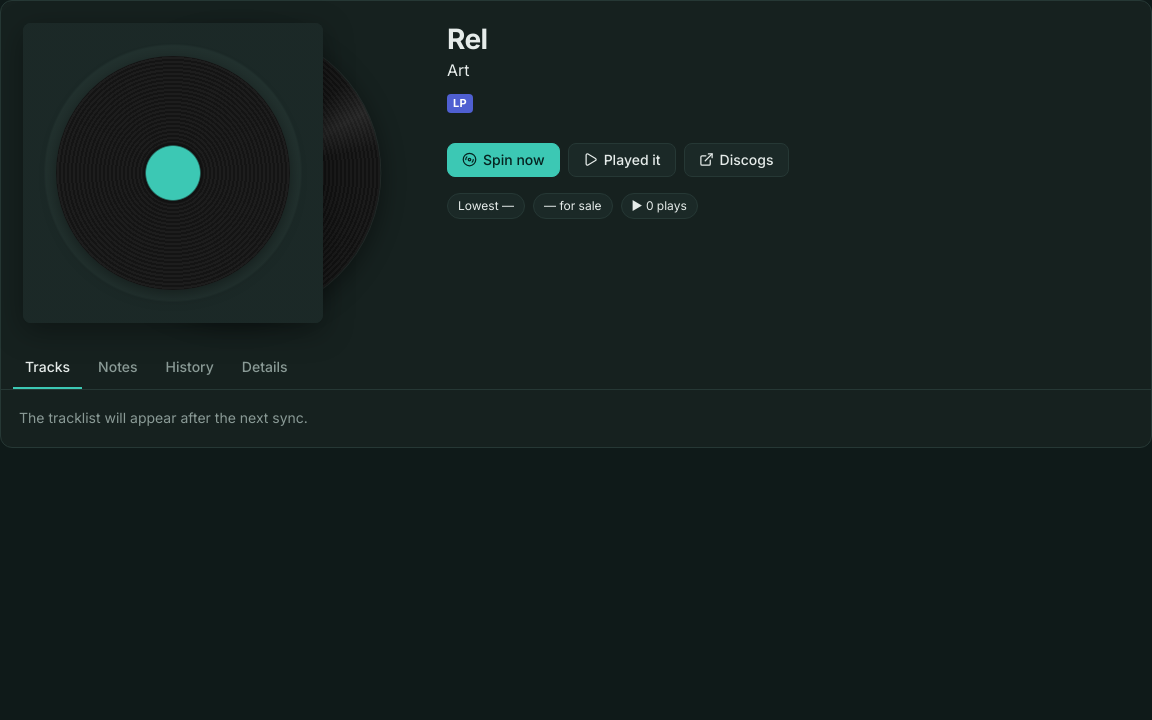
Test: when the server skipped the play as a repeat within 10 minutes, the toast says so
Click the button "Spin now" at coordinates (503, 160), box [447, 143, 560, 177]
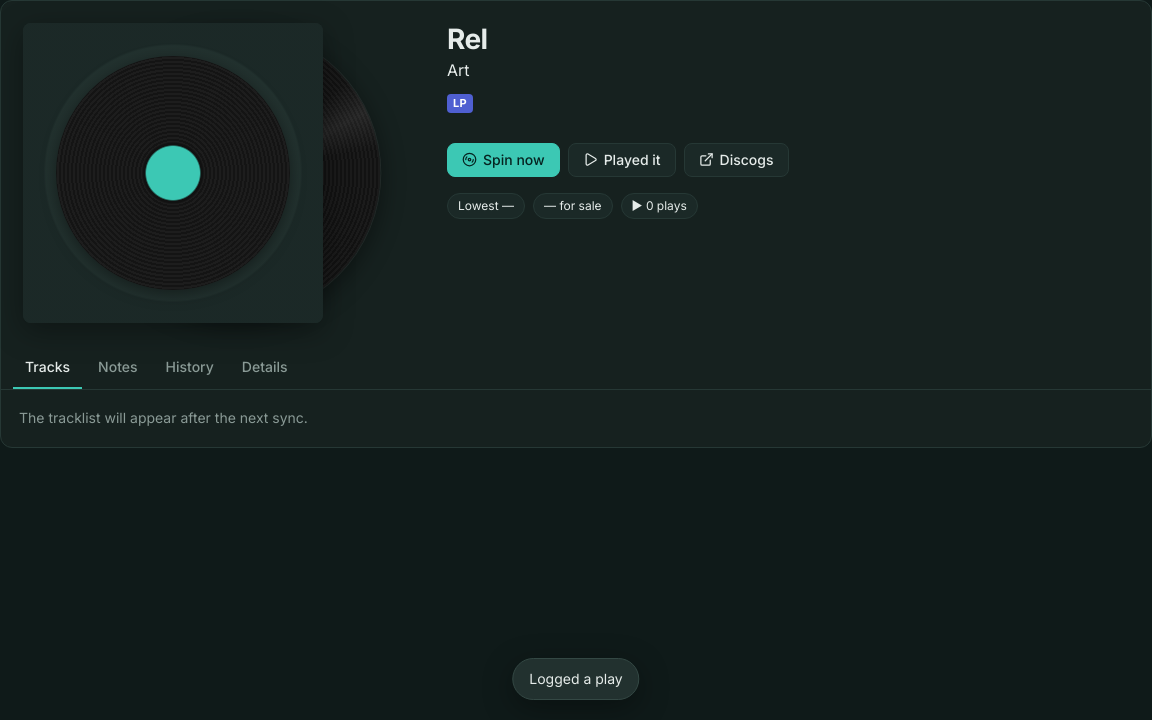
Click the button "Spin now" at coordinates (503, 160), box [447, 143, 560, 177]
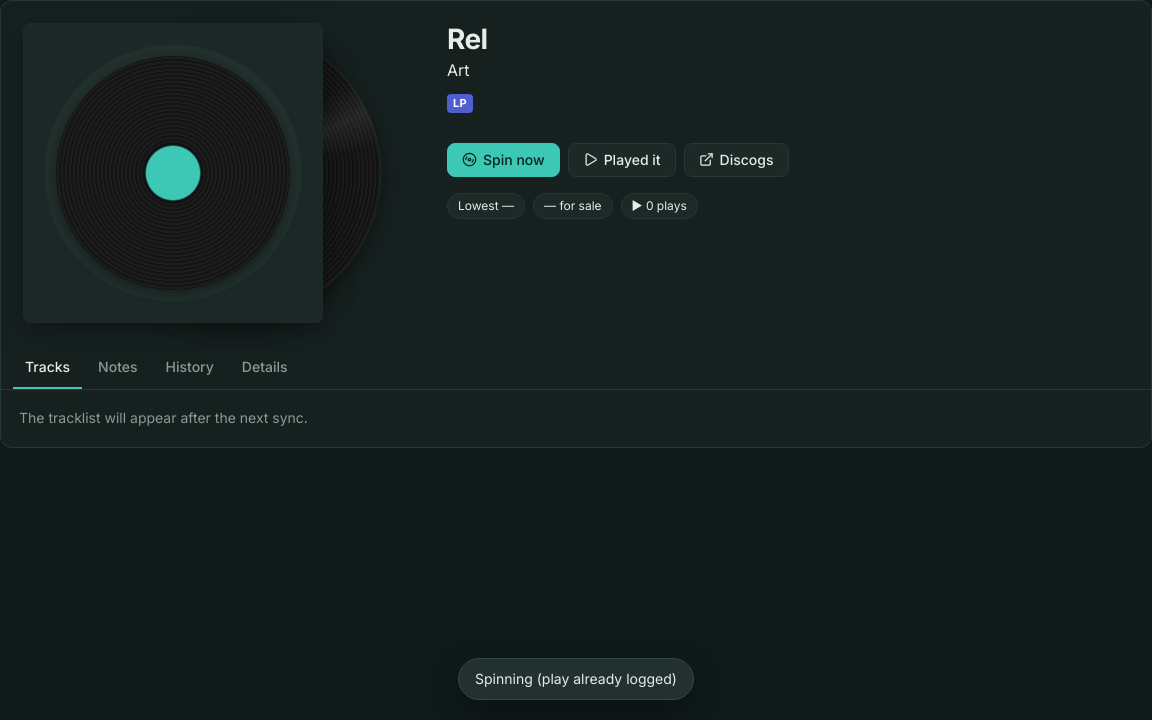
Expected: the message reads "Spinning (play already logged)", [475, 670, 677, 687]
